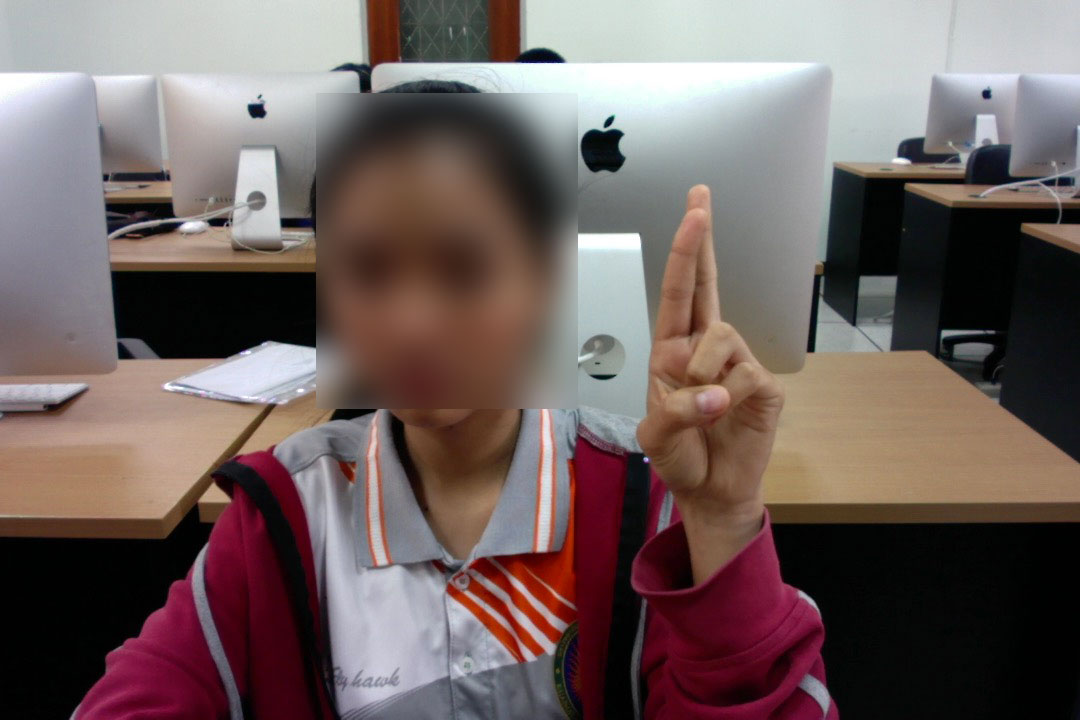rao: (622, 175, 800, 508)
